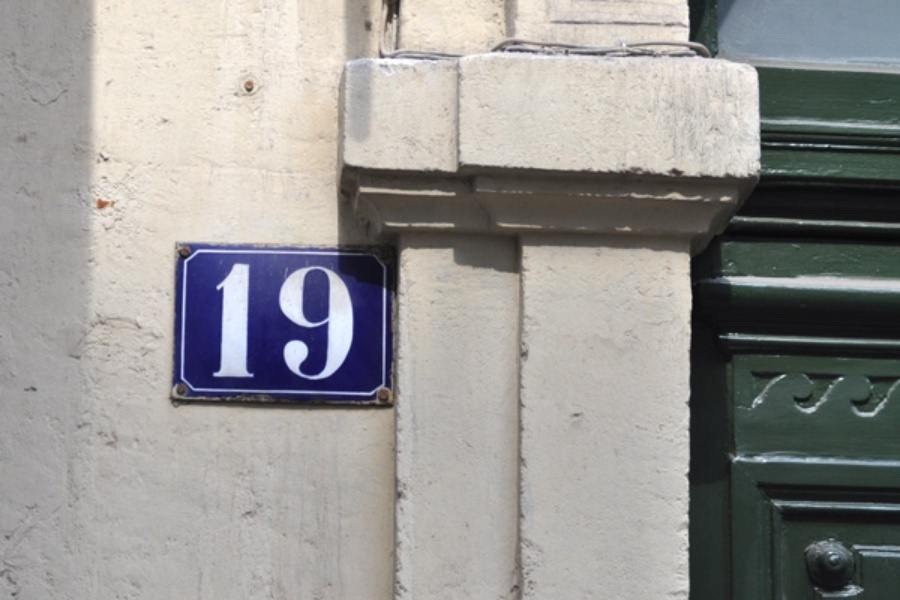text: (225, 262, 240, 380), (241, 262, 256, 380), (257, 262, 272, 380), (273, 262, 288, 380), (289, 262, 304, 380), (305, 262, 320, 380), (321, 262, 336, 380), (337, 262, 352, 380), (215, 262, 224, 380), (353, 262, 355, 380)
